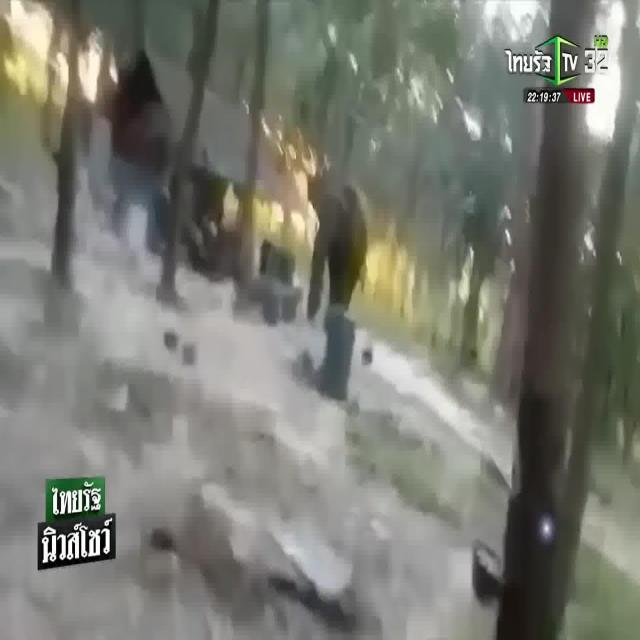Elephant: (303, 169, 371, 307)
